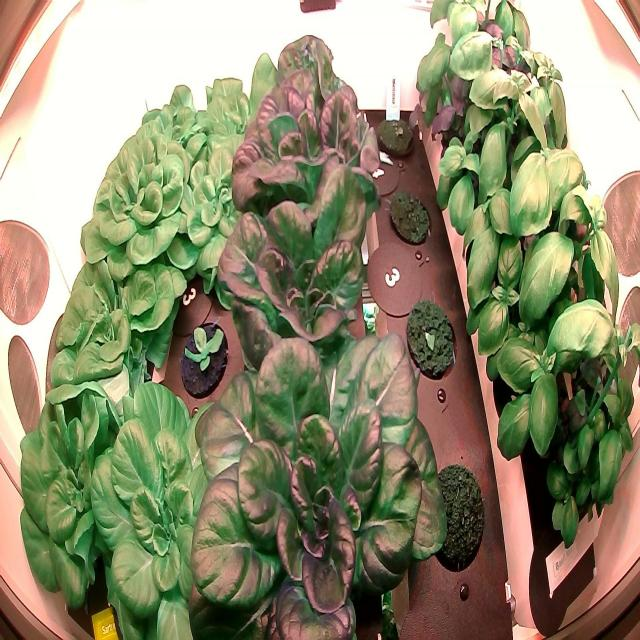Ready: (209, 156, 391, 365), (222, 78, 392, 261), (18, 391, 126, 618), (44, 239, 178, 414), (79, 128, 194, 295), (236, 28, 378, 150), (136, 79, 214, 171)
germination: (372, 107, 422, 168)
pod: (425, 458, 488, 575), (402, 295, 460, 385), (386, 184, 435, 252)
young: (182, 319, 454, 640), (88, 378, 251, 639), (192, 52, 292, 182), (182, 145, 268, 296), (174, 310, 232, 406)
